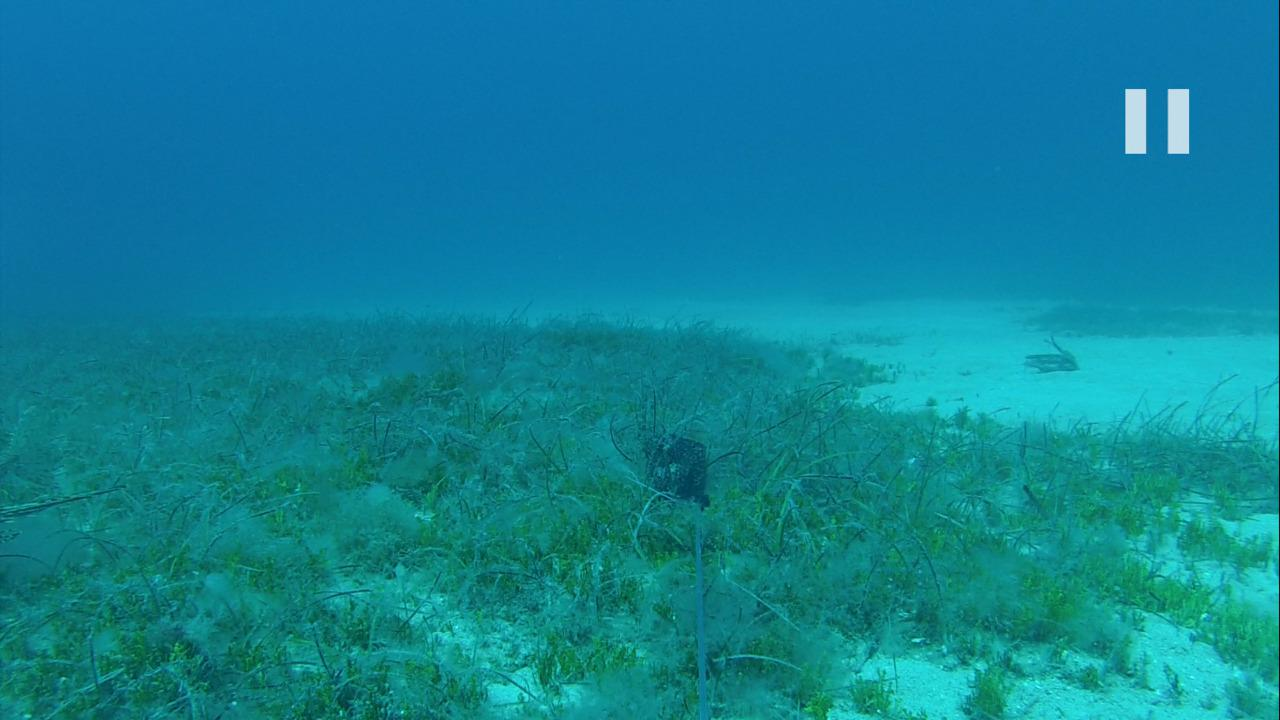dactylopterus: (4, 446, 138, 529)
